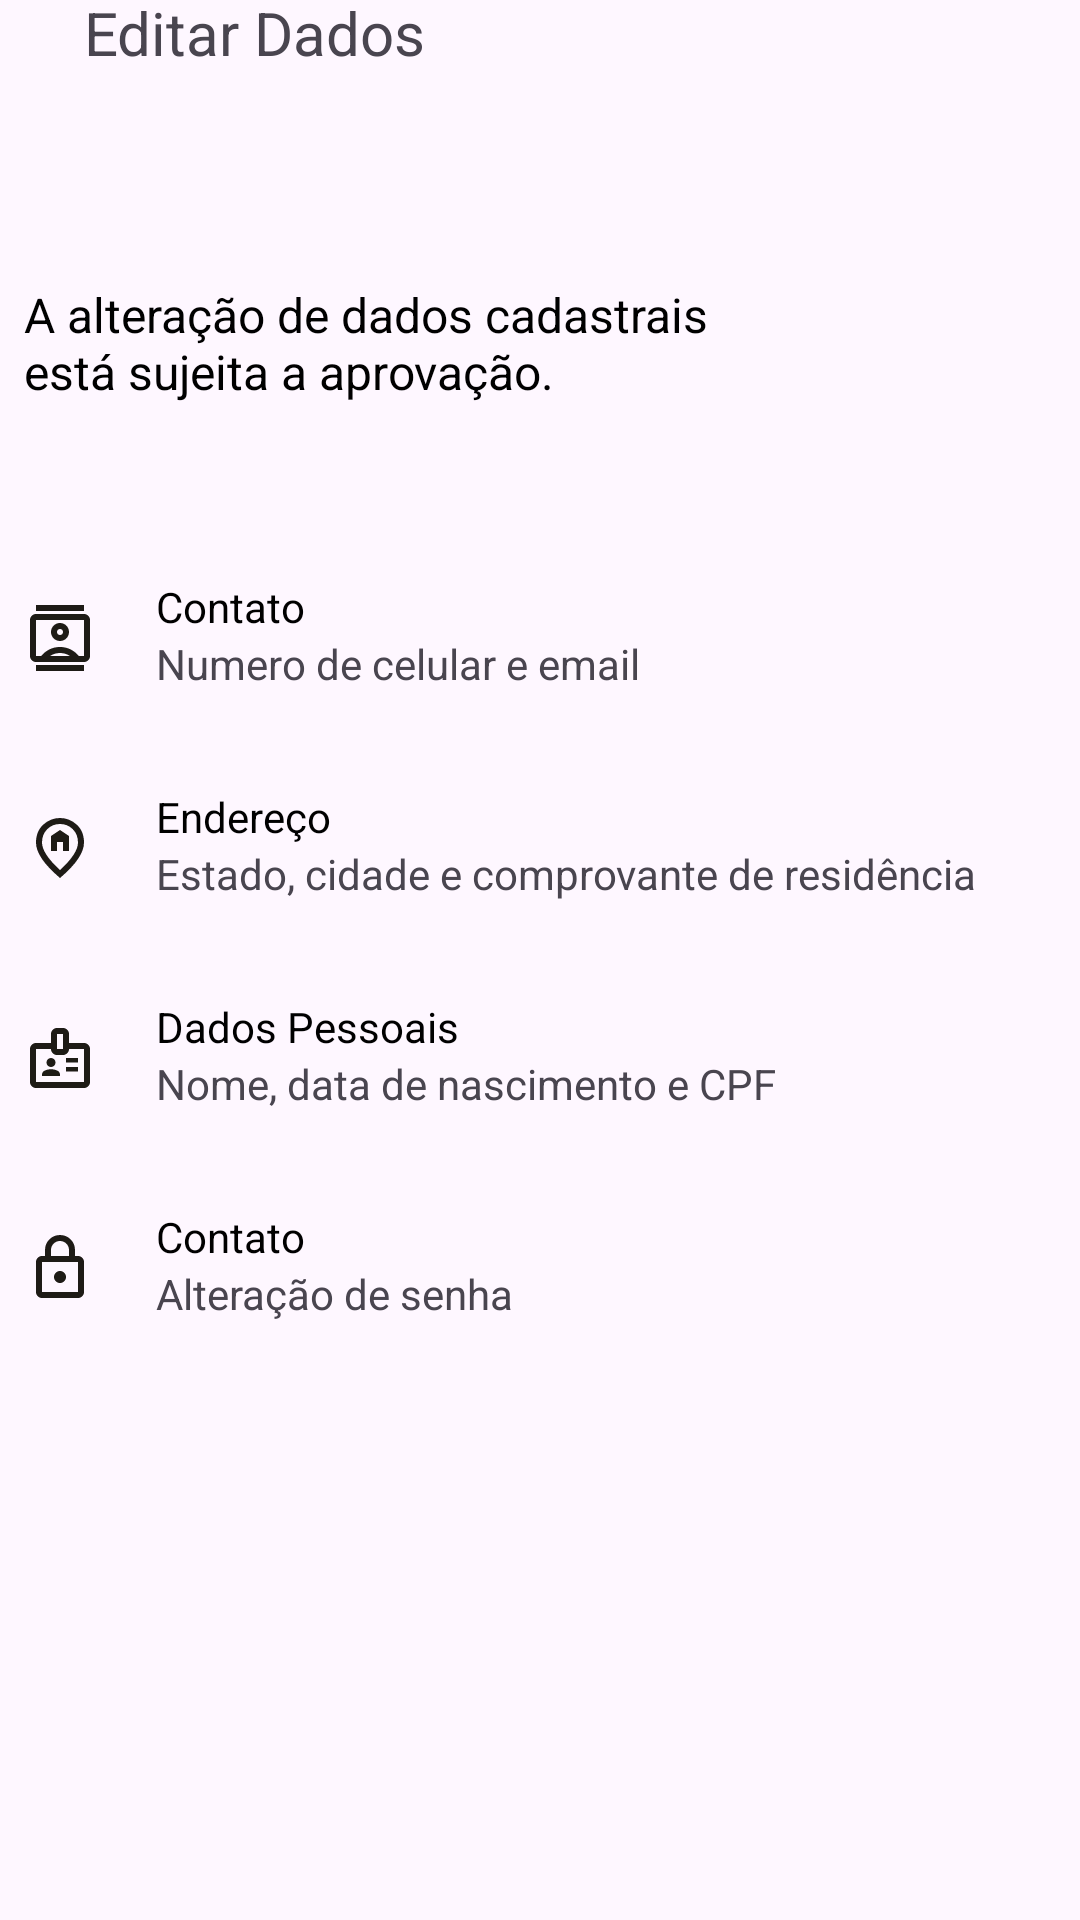

Named icons in this screenshot (1080px x 1920px) and their centers, (x,y):
badge: (60,1058)
contacts: (60,638)
home pin: (60,848)
lock: (60,1266)
